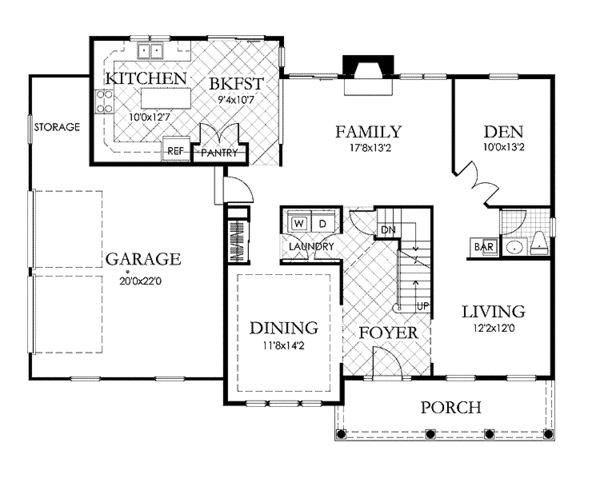door: (368, 337, 407, 388), (460, 157, 504, 199), (221, 172, 257, 206), (196, 119, 241, 146), (348, 205, 380, 238), (501, 207, 532, 232)
room: (20, 168, 232, 384), (72, 21, 279, 171), (270, 65, 461, 227), (425, 200, 560, 381), (207, 254, 347, 412), (443, 69, 559, 216), (19, 61, 102, 169)
wall: (87, 153, 248, 170), (220, 204, 233, 404), (546, 74, 560, 218), (86, 30, 97, 169), (426, 197, 437, 325), (446, 75, 460, 174), (548, 238, 556, 380), (98, 373, 153, 386), (28, 71, 90, 82), (332, 256, 346, 303), (281, 259, 338, 270), (370, 204, 434, 212), (170, 31, 206, 45), (27, 147, 38, 192), (25, 75, 37, 114), (95, 31, 128, 45), (25, 374, 71, 384), (445, 72, 491, 81), (375, 234, 402, 249), (338, 362, 348, 402), (413, 373, 447, 382), (476, 373, 506, 383), (185, 375, 223, 382), (320, 399, 348, 408), (269, 34, 288, 47), (30, 360, 38, 385)
window: (23, 274, 42, 354), (26, 191, 42, 268), (245, 398, 318, 412), (288, 66, 339, 84), (15, 110, 40, 146), (208, 33, 266, 43), (402, 71, 444, 84), (156, 369, 185, 386), (130, 34, 166, 46), (509, 370, 537, 385), (488, 68, 520, 81), (71, 376, 98, 389), (447, 374, 475, 384)
